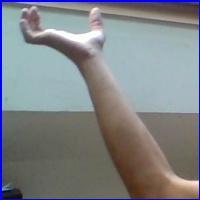space: (14, 4, 112, 66)
